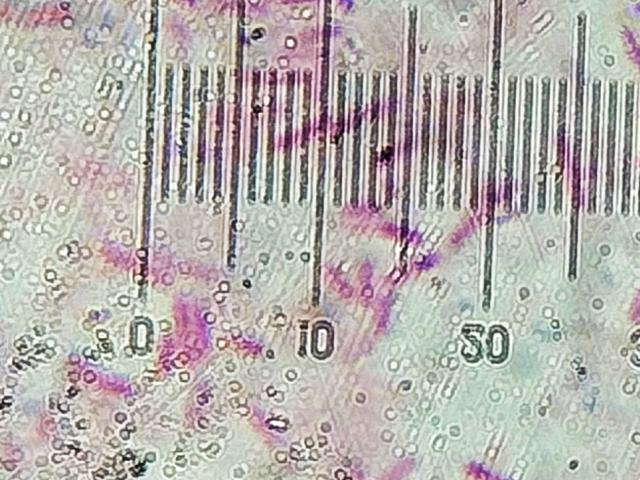E. coli: (276, 17, 320, 63), (88, 362, 128, 399), (366, 217, 417, 240), (168, 250, 207, 279), (615, 26, 640, 71), (248, 405, 275, 445), (379, 295, 400, 343), (231, 335, 266, 363), (459, 453, 494, 480), (191, 302, 211, 349), (379, 451, 411, 480), (166, 302, 187, 339), (99, 242, 129, 266), (329, 265, 346, 307), (451, 222, 476, 248), (356, 259, 373, 291)
